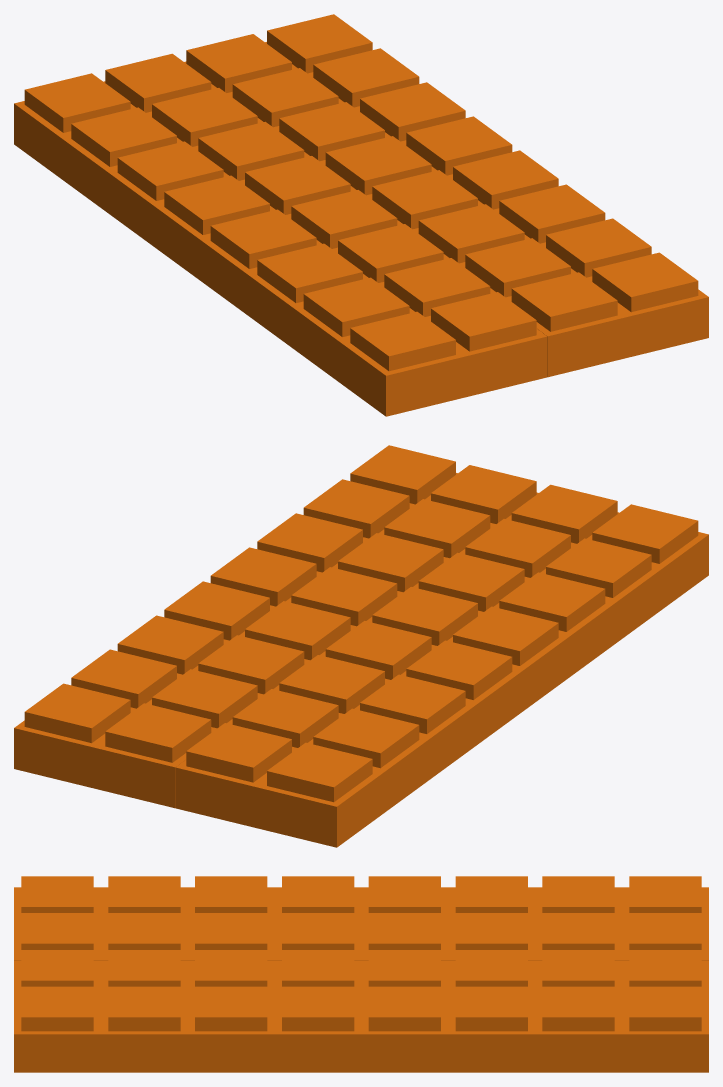
The model's file is chocolate.fbx.
The picture shows the model from 3 angles, top to bottom: view 1: azimuth 30°, elevation 25°; view 2: azimuth 150°, elevation 25°; view 3: azimuth 270°, elevation 25°; orthographic projection. The views are drawn at different scales.
Parts seen in each view (by area): view 1: Cilindro; view 2: Cilindro; view 3: Cilindro.
Part boxes in pixels (bbox=[...]): Cilindro: bbox=[14, 14, 708, 416]; Cilindro: bbox=[14, 445, 708, 847]; Cilindro: bbox=[14, 876, 708, 1072].
Bounding box in the file's own units: 800 × 132 × 1598.
